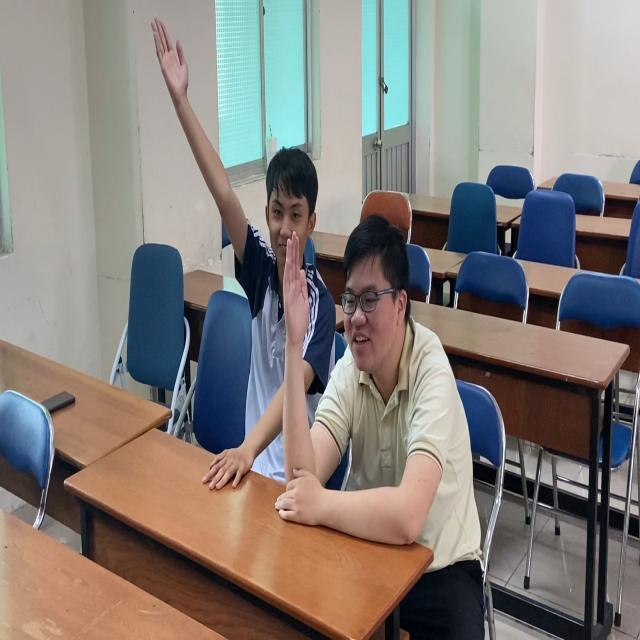raise_hand: (281, 216, 452, 546)
